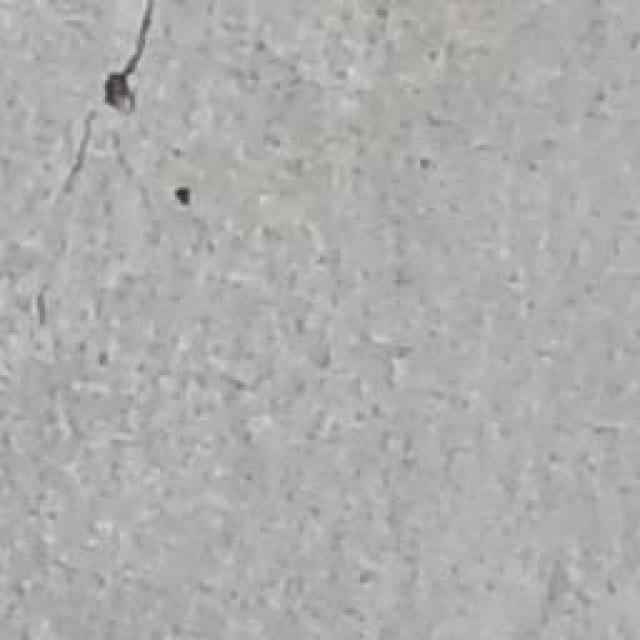concrete-crack: (97, 3, 160, 115)
